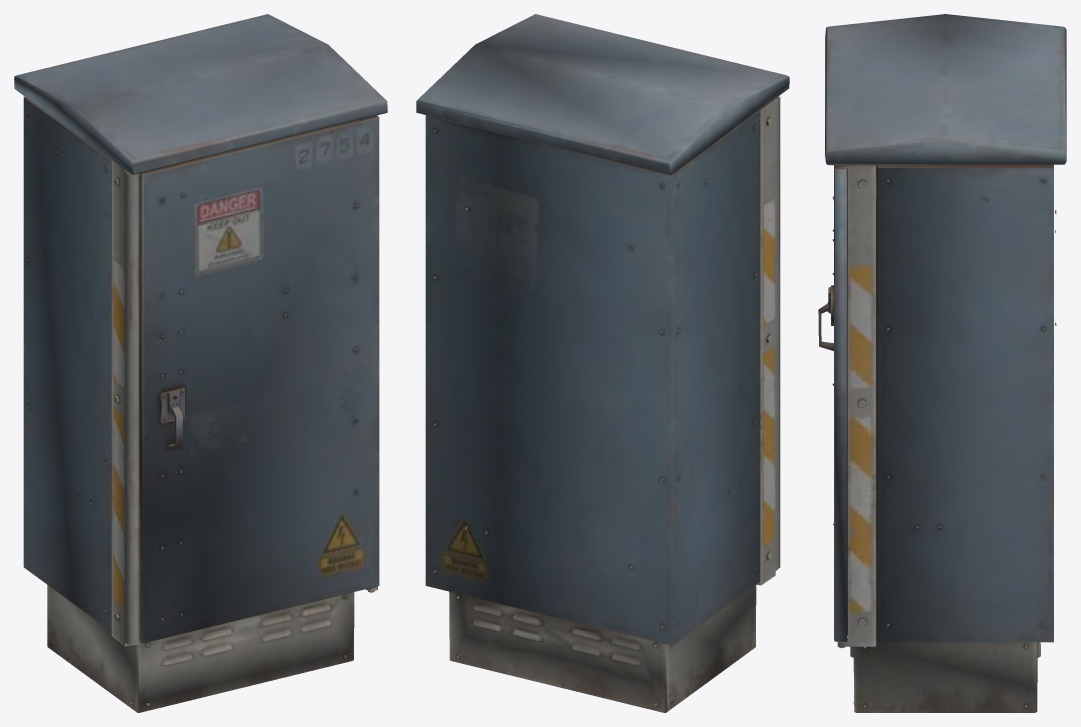
File: utility_box_01.glb
The picture shows the model from 3 angles, left to right: view 1: azimuth 30°, elevation 25°; view 2: azimuth 150°, elevation 25°; view 3: azimuth 270°, elevation 25°; orthographic projection.
Parts seen in each view (by area): view 1: utility_box_01_box; view 2: utility_box_01_box; view 3: utility_box_01_box.
Boxes of the visible parts, x1,y1,x2,y2 form: utility_box_01_box: [14, 14, 387, 712]; utility_box_01_box: [416, 14, 789, 712]; utility_box_01_box: [818, 14, 1066, 712].
Size of the model in its own units: 0.5182 by 1.12 by 0.4312.
1 material, 1 textured.
